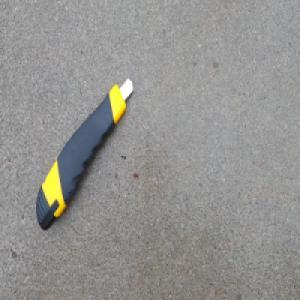Cutter: (35, 78, 133, 234)
